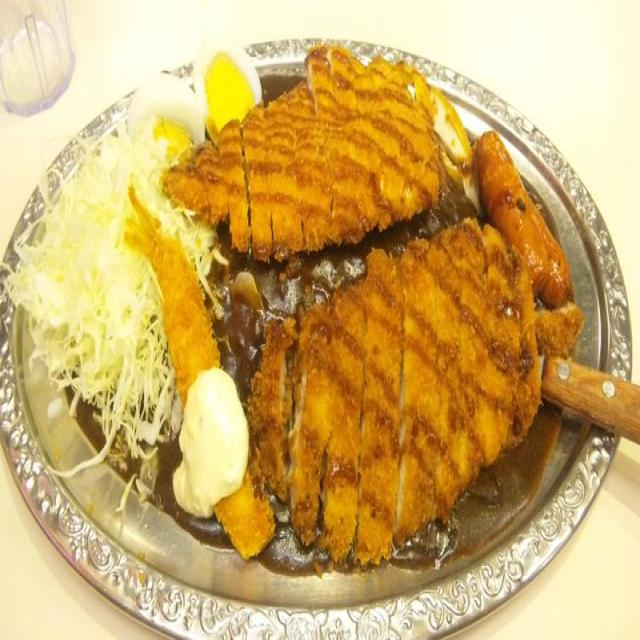猪肉菜式: (35, 61, 582, 542)
